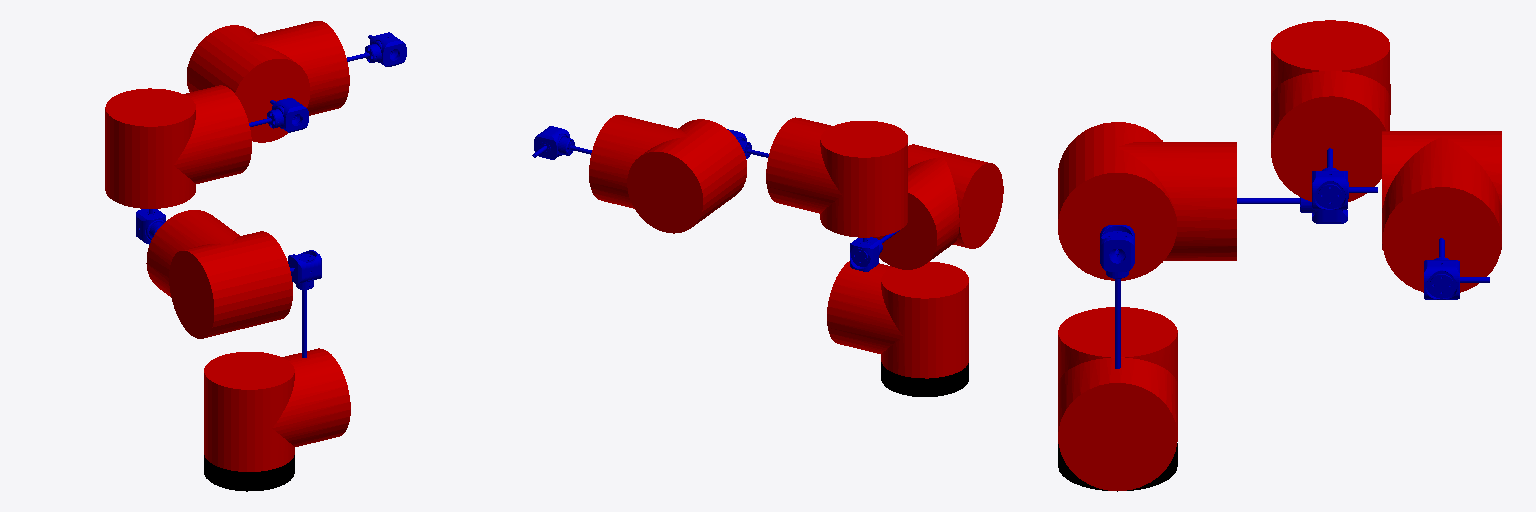
robot.urdf — node122:
<?xml version="1.0"?>
<robot  name="node122" >
 <material  name="blue" >
  <color  rgba="0 0 0.8 1.0" />
 </material>
 <material  name="red" >
  <color  rgba="0.8 0 0 1.0" />
 </material>
 <material  name="black" >
  <color  rgba="0.0 0.0 0.0 1.0" />
 </material>
 <link  name="root_mod" >
  <visual >
   <origin  rpy="0 0 0"  xyz="0 0 0" />
   <material  name="black" />
   <geometry >
    <cylinder  length="0.02"  radius="0.05" />
   </geometry>
  </visual>
 </link>
 <link  name="jointMod_1" >
  <visual >
   <origin  rpy="1.5707963267948963 0.0 0.0"  xyz="0.0 7.771561172376096e-19 0.0035" />
   <material  name="red" />
   <geometry >
    <mesh  filename="./meshes/j_module.obj"  scale="0.001 0.001 0.001" />
   </geometry>
  </visual>
 </link>
 <joint  type="revolute"  name="joint_1_revolute" >
  <parent  link="root_mod" />
  <child  link="jointMod_1" />
  <origin  rpy="0 0 0"  xyz="0.0 0.0 0.01" />
  <axis  xyz="0.0 0.0 1.0" />
 </joint>
 <transmission  name="act_joint_1_revolute" >
  <type  xmltext="SimpleTransmission" >
   SimpleTransmission
  </type>
  <actuator  name="act_joint_1_revolute" >
   <mechanicalreduction  xmltext="1" >
    1
   </mechanicalreduction>
  </actuator>
  <joint  name="joint_1_revolute" />
 </transmission>
 <link  name="linkMod_2" >
  <visual >
   <origin  rpy="1.5707963240855651 -1.2497703982816688e-08 -3.141592641092089"  xyz="0.03999999999999998 4.999081662324221e-10 -4.999081648780052e-10" />
   <material  name="blue" />
   <geometry >
    <mesh  filename="./meshes/l1_module.obj"  scale="0.001 0.001 0.001" />
   </geometry>
  </visual>
 </link>
 <joint  type="revolute"  name="joint_2_revolute" >
  <parent  link="jointMod_1" />
  <child  link="linkMod_2" />
  <origin  rpy="0 0 0"  xyz="0.03 -0.0002999999999999882 0.053000000000000005" />
  <axis  xyz="1.0 0.0 0.0" />
 </joint>
 <transmission  name="act_joint_2_revolute" >
  <type  xmltext="SimpleTransmission" >
   SimpleTransmission
  </type>
  <actuator  name="act_joint_2_revolute" >
   <mechanicalreduction  xmltext="1" >
    1
   </mechanicalreduction>
  </actuator>
  <joint  name="joint_2_revolute" />
 </transmission>
 <link  name="jointMod_3" >
  <visual >
   <origin  rpy="0.0 0.0 1.5707963267948963"  xyz="-0.0035 7.771561172376096e-19 0.0" />
   <material  name="red" />
   <geometry >
    <mesh  filename="./meshes/j_module.obj"  scale="0.001 0.001 0.001" />
   </geometry>
  </visual>
 </link>
 <joint  type="fixed"  name="joint_3_fixed" >
  <parent  link="linkMod_2" />
  <child  link="jointMod_3" />
  <origin  rpy="0 0 0"  xyz="1.9996326608429094e-09 -4.3349299788124236e-10 0.15999999999999995" />
  <axis  xyz="-1.0 -0.0 0.0" />
 </joint>
 <link  name="linkMod_4" >
  <visual >
   <origin  rpy="-3.141592641092089 -1.5707963009853283 0.0"  xyz="-1.8496602150599611e-09 0.14799999999999994 1.84966021004862e-09" />
   <material  name="blue" />
   <geometry >
    <mesh  filename="./meshes/l3_module.obj"  scale="0.001 0.001 0.001" />
   </geometry>
  </visual>
 </link>
 <joint  type="revolute"  name="joint_4_revolute" >
  <parent  link="jointMod_3" />
  <child  link="linkMod_4" />
  <origin  rpy="0 0 0"  xyz="-0.053 0.03000000000000001 0.0003" />
  <axis  xyz="0.0 1.0 0.0" />
 </joint>
 <transmission  name="act_joint_4_revolute" >
  <type  xmltext="SimpleTransmission" >
   SimpleTransmission
  </type>
  <actuator  name="act_joint_4_revolute" >
   <mechanicalreduction  xmltext="1" >
    1
   </mechanicalreduction>
  </actuator>
  <joint  name="joint_4_revolute" />
 </transmission>
 <link  name="jointMod_5" >
  <visual >
   <origin  rpy="1.5707963267948963 0.0 0.0"  xyz="0.0 7.771561172376096e-19 0.0035" />
   <material  name="red" />
   <geometry >
    <mesh  filename="./meshes/j_module.obj"  scale="0.001 0.001 0.001" />
   </geometry>
  </visual>
 </link>
 <joint  type="fixed"  name="joint_5_fixed" >
  <parent  link="linkMod_4" />
  <child  link="jointMod_5" />
  <origin  rpy="0 0 0"  xyz="-1.958033437884919e-09 0.14799999950009177 0.0400000018496602" />
  <axis  xyz="-0.0 -0.0 1.0" />
 </joint>
 <link  name="linkMod_6" >
  <visual >
   <origin  rpy="0.0 0.0 1.5707963267948963"  xyz="0.148 -3.286260152890463e-17 0.0" />
   <material  name="blue" />
   <geometry >
    <mesh  filename="./meshes/l3_module.obj"  scale="0.001 0.001 0.001" />
   </geometry>
  </visual>
 </link>
 <joint  type="revolute"  name="joint_6_revolute" >
  <parent  link="jointMod_5" />
  <child  link="linkMod_6" />
  <origin  rpy="0 0 0"  xyz="0.03 -0.0002999999999999882 0.053000000000000005" />
  <axis  xyz="1.0 0.0 0.0" />
 </joint>
 <transmission  name="act_joint_6_revolute" >
  <type  xmltext="SimpleTransmission" >
   SimpleTransmission
  </type>
  <actuator  name="act_joint_6_revolute" >
   <mechanicalreduction  xmltext="1" >
    1
   </mechanicalreduction>
  </actuator>
  <joint  name="joint_6_revolute" />
 </transmission>
 <link  name="jointMod_7" >
  <visual >
   <origin  rpy="0.0 0.0 0.0"  xyz="0.0 0.0035 0.0" />
   <material  name="red" />
   <geometry >
    <mesh  filename="./meshes/j_module.obj"  scale="0.001 0.001 0.001" />
   </geometry>
  </visual>
 </link>
 <joint  type="fixed"  name="joint_7_fixed" >
  <parent  link="linkMod_6" />
  <child  link="jointMod_7" />
  <origin  rpy="0 0 0"  xyz="0.148 0.039999999999999966 0.0" />
  <axis  xyz="0.0 1.0 0.0" />
 </joint>
 <link  name="linkMod_8" >
  <visual >
   <origin  rpy="0.0 0.0 1.5707963267948963"  xyz="0.148 -3.286260152890463e-17 0.0" />
   <material  name="blue" />
   <geometry >
    <mesh  filename="./meshes/l3_module.obj"  scale="0.001 0.001 0.001" />
   </geometry>
  </visual>
 </link>
 <joint  type="revolute"  name="joint_8_revolute" >
  <parent  link="jointMod_7" />
  <child  link="linkMod_8" />
  <origin  rpy="0 0 0"  xyz="0.03 0.053000000000000005 0.0003" />
  <axis  xyz="1.0 0.0 0.0" />
 </joint>
 <transmission  name="act_joint_8_revolute" >
  <type  xmltext="SimpleTransmission" >
   SimpleTransmission
  </type>
  <actuator  name="act_joint_8_revolute" >
   <mechanicalreduction  xmltext="1" >
    1
   </mechanicalreduction>
  </actuator>
  <joint  name="joint_8_revolute" />
 </transmission>
 <link  name="eef" />
 <joint  type="fixed"  name="eef_joint" >
  <parent  link="linkMod_8" />
  <child  link="eef" />
  <origin  rpy="0 0 0"  xyz="0.148 0.039999999999999966 0.0" />
  <axis  xyz="0.0 1.0 0.0" />
 </joint>
</robot>

--- What the picture shows (computed from the rendered views, not written in the file) ---
Views: 3 orthographic renders of the robot side by side, from view 1: azimuth 30°, elevation 25°; view 2: azimuth 150°, elevation 25°; view 3: azimuth 270°, elevation 25°.
Model node122 with 10 links and 9 joints (5 revolute, 4 fixed), rooted at root_mod, posed every joint at zero.
Visible links, largest first — view 1: jointMod_5, jointMod_1, jointMod_3, jointMod_7, root_mod, linkMod_2, linkMod_6, linkMod_8, linkMod_4; view 2: jointMod_5, jointMod_7, jointMod_1, jointMod_3, root_mod, linkMod_8, linkMod_4; view 3: jointMod_3, jointMod_1, jointMod_5, jointMod_7, linkMod_2, linkMod_8, linkMod_6, linkMod_4, root_mod.
Boxes of the visible links, x1,y1,x2,y2 form: jointMod_5: (105, 85, 251, 208); jointMod_1: (204, 348, 350, 471); jointMod_3: (146, 210, 292, 338); jointMod_7: (187, 21, 349, 142); root_mod: (204, 455, 294, 491); linkMod_2: (288, 250, 321, 357); linkMod_6: (249, 98, 308, 132); linkMod_8: (347, 32, 406, 66); linkMod_4: (136, 209, 165, 244); jointMod_5: (766, 117, 907, 237); jointMod_7: (589, 115, 746, 233); jointMod_1: (827, 261, 968, 378); jointMod_3: (873, 144, 1003, 269); root_mod: (881, 362, 968, 396); linkMod_8: (532, 126, 591, 159); linkMod_4: (850, 230, 899, 271); jointMod_3: (1058, 122, 1236, 280); jointMod_1: (1058, 307, 1177, 490); jointMod_5: (1271, 20, 1390, 201); jointMod_7: (1382, 131, 1501, 292); linkMod_2: (1100, 225, 1134, 368); linkMod_8: (1424, 238, 1489, 299); linkMod_6: (1312, 148, 1377, 209); linkMod_4: (1237, 197, 1347, 223); root_mod: (1058, 443, 1177, 491).
Bounding box of the posed robot: 0.4208 × 0.371 × 0.3768 m (x, y, z).
8 mesh visuals loaded from 3 distinct referenced files (3 OBJ).